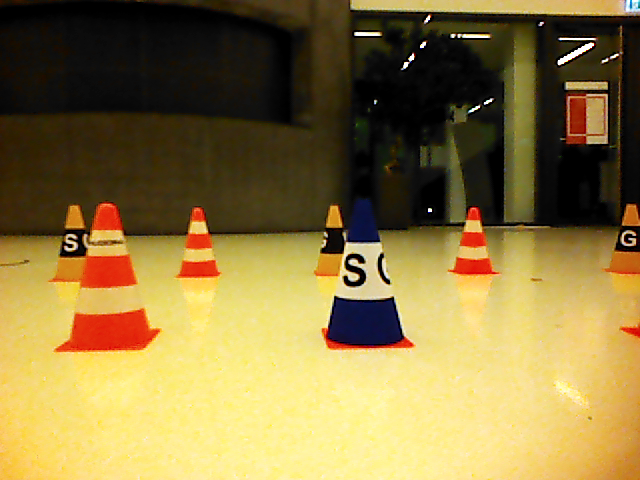bluecone: (332, 199, 402, 345)
orangeconesmall: (73, 197, 151, 345), (178, 206, 219, 275), (452, 206, 494, 272)
yellowcone: (58, 203, 87, 278), (610, 204, 640, 272), (317, 204, 344, 274)
